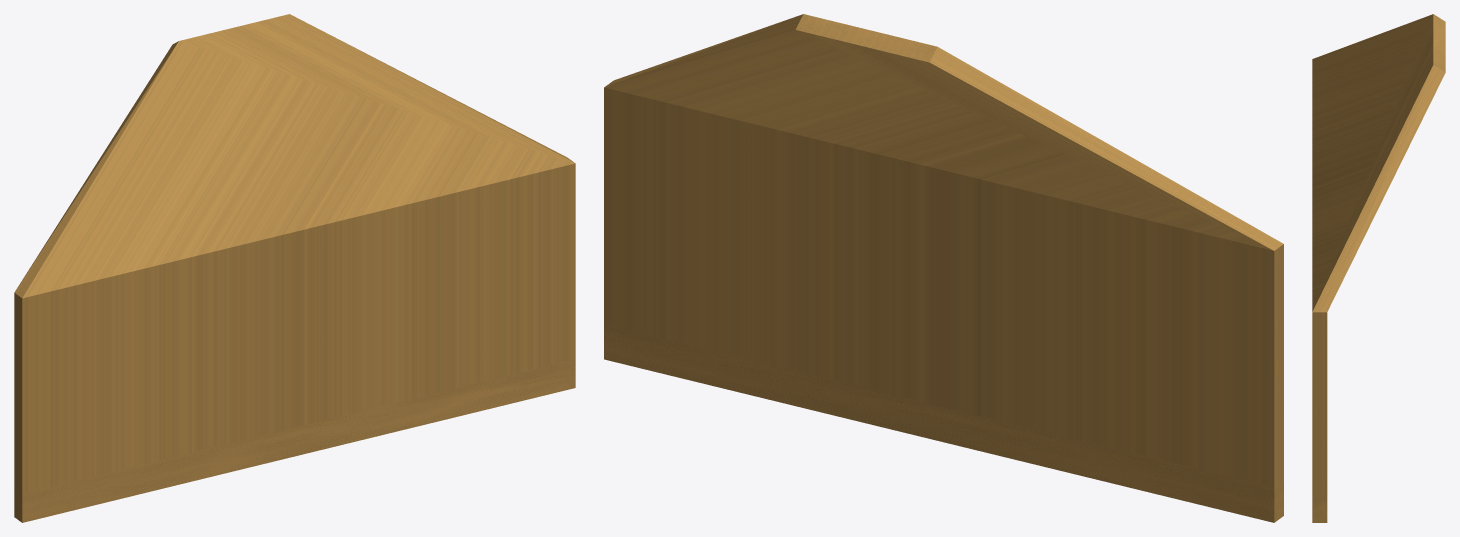
Rendered from box_left.dae.
3 renders of one model, left to right at view 1: azimuth 30°, elevation 25°; view 2: azimuth 150°, elevation 25°; view 3: azimuth 270°, elevation 25°, orthographic. The views are drawn at different scales.
Parts seen in each view (by area): view 1: Left; view 2: Left; view 3: Left.
Boxes of the visible parts, x1,y1,x2,y2 form: Left: [14, 14, 575, 522]; Left: [604, 14, 1283, 522]; Left: [1312, 14, 1445, 522].
Bounding box in the file's own units: 10 × 2.23 × 6.57.
1 material, 1 textured.
